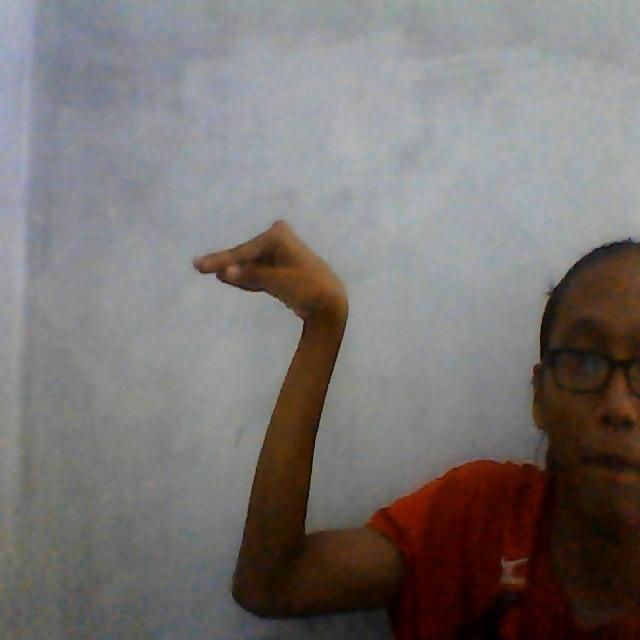Z: (164, 210, 428, 624)
